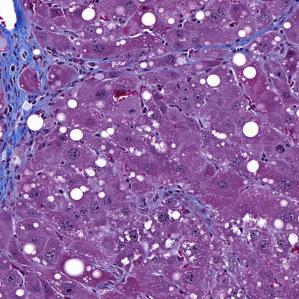fibrosis: (4, 31, 98, 125)
